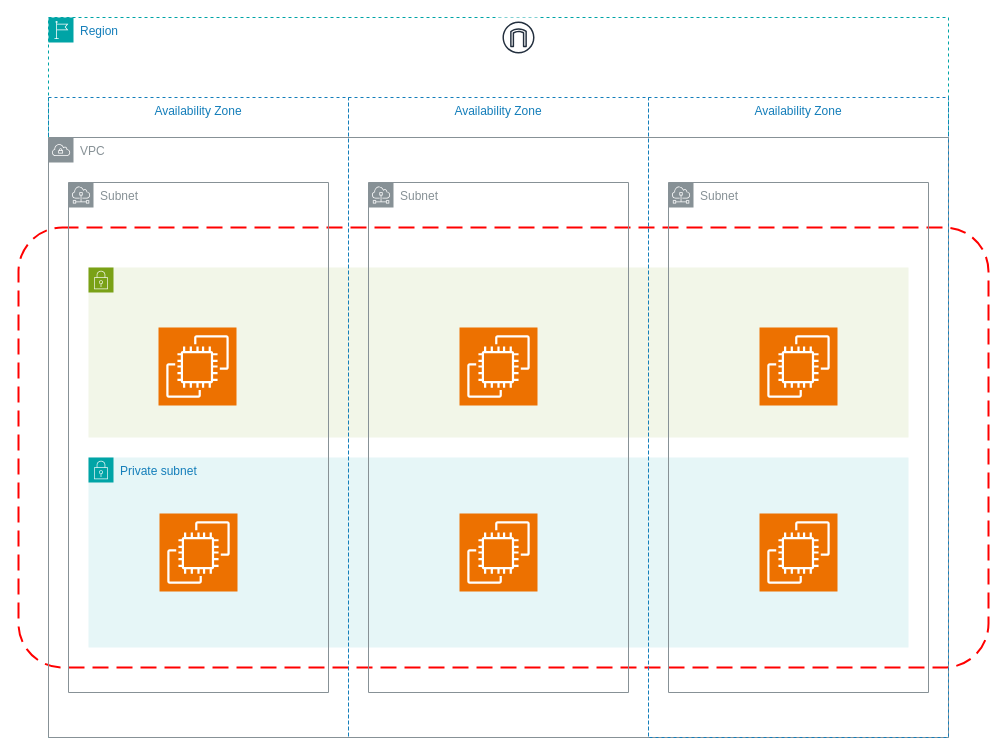
The diagram is 1006 pixels wide and 755 high, and some of its shapes have lost their labels. The shapes that lost their labels are listed below. From the top down, each one's box as (x1, y1, x2, y2) in pixels, then its label:
(498, 16, 538, 58): Internet gateway
(88, 266, 908, 438): Public subnet
